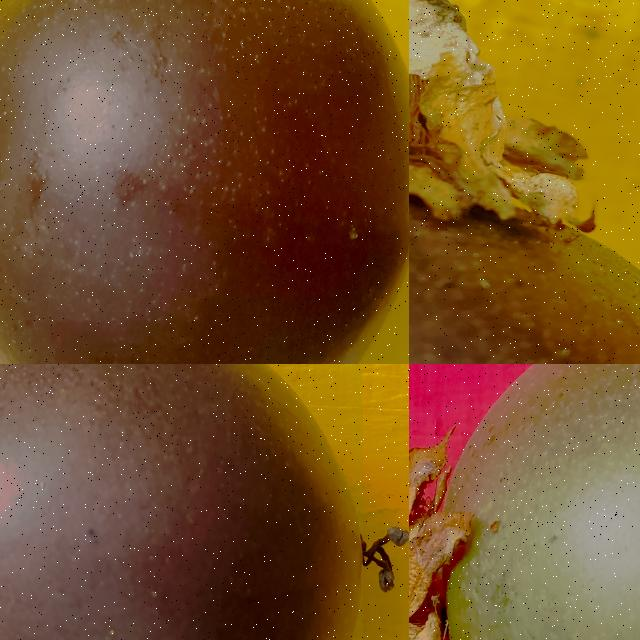Estado-2: (409, 364, 640, 640)
Estado-5: (409, 0, 640, 364)
